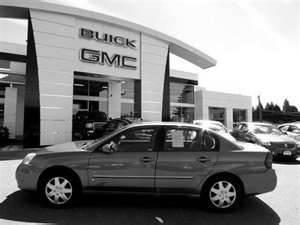car: (17, 123, 277, 213)
